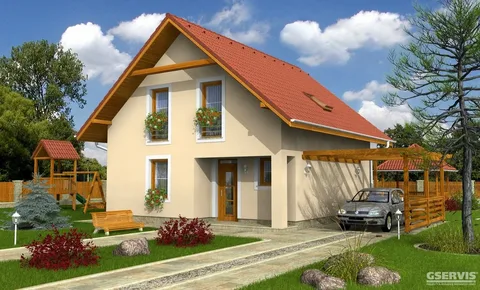private_hause: (101, 41, 366, 216)
